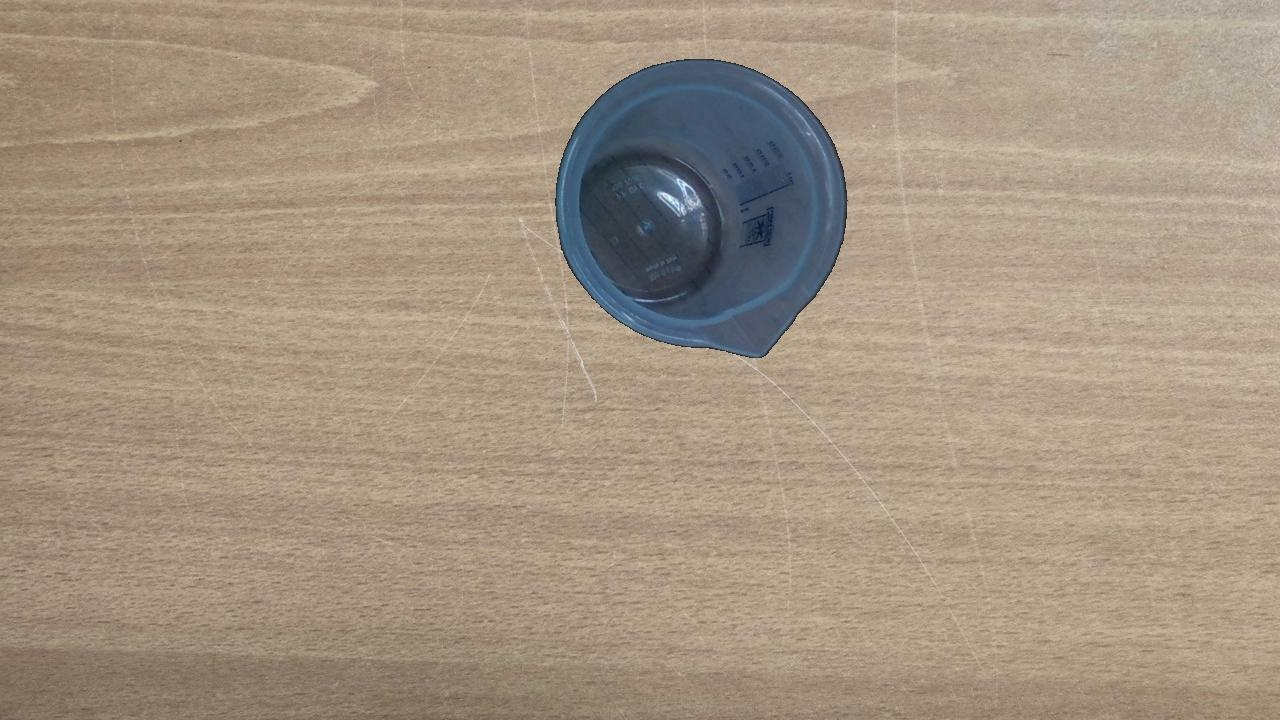cup: (556, 57, 848, 362)
